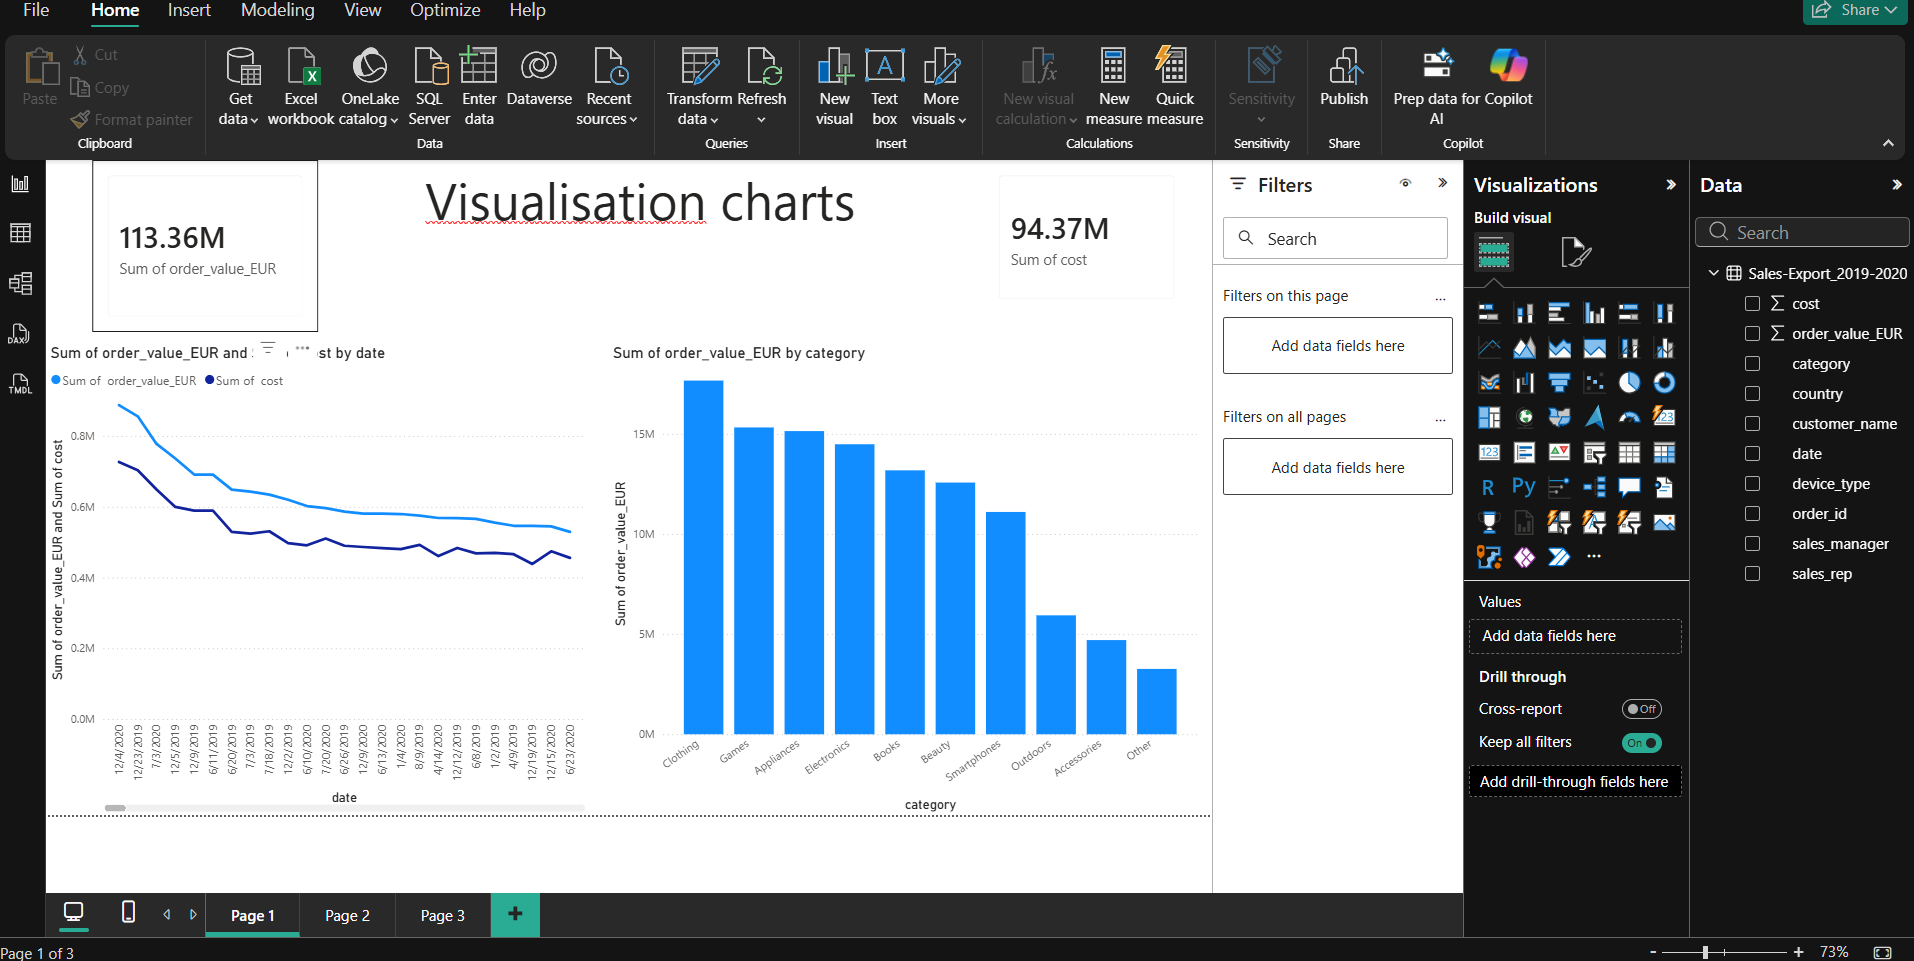

This screenshot's page, from the dashboard's own definition file:
{"tool":"powerbi","page":{"name":"Page 1","canvas":[1280,720],"ordinal":0},"visuals":[{"type":"lineChart","fields":{"Category":["Sales-Export_2019-2020.date"],"Y":["Sum(Sales-Export_2019-2020. order_value_EUR )","Sum(Sales-Export_2019-2020. cost )"]},"box":[0,201.7,596.9,518.7],"z":0},{"type":"cardVisual","fields":{"Data":["Sum(Sales-Export_2019-2020. cost )"]},"box":[1029.2,0,227.8,170.2],"z":1000},{"type":"cardVisual","fields":{"Data":["Sum(Sales-Export_2019-2020. order_value_EUR )"]},"box":[50.8,0,248.4,189.4],"z":2000},{"type":"clusteredColumnChart","fields":{"Category":["Sales-Export_2019-2020.category"],"Y":["Sum(Sales-Export_2019-2020. order_value_EUR )"]},"box":[617.5,201.7,651.8,518.7],"z":3000},{"type":"textbox","box":[299.1,0,706.7,189.4],"z":3001}]}

Visuals, with their boxes on the page's 1280x720 design canvas (x1, y1, x2, y2). These are canvas units, not pixel positions in the 1914x961 screenshot, which may show the page scaled, cropped or inside an application window:
lineChart - Sales-Export_2019-2020.date x Sum(Sales-Export_2019-2020. order_value_EUR ): BBox(0, 202, 597, 720)
cardVisual - Sum(Sales-Export_2019-2020. cost ): BBox(1029, 0, 1257, 170)
cardVisual - Sum(Sales-Export_2019-2020. order_value_EUR ): BBox(51, 0, 299, 189)
clusteredColumnChart - Sales-Export_2019-2020.category x Sum(Sales-Export_2019-2020. order_value_EUR ): BBox(618, 202, 1269, 720)
textbox: BBox(299, 0, 1006, 189)
